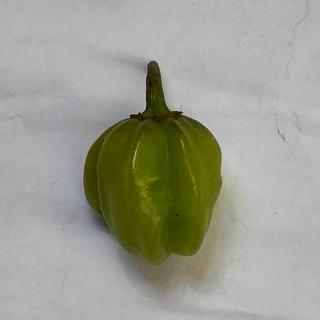Grade-B: (79, 104, 224, 266)
